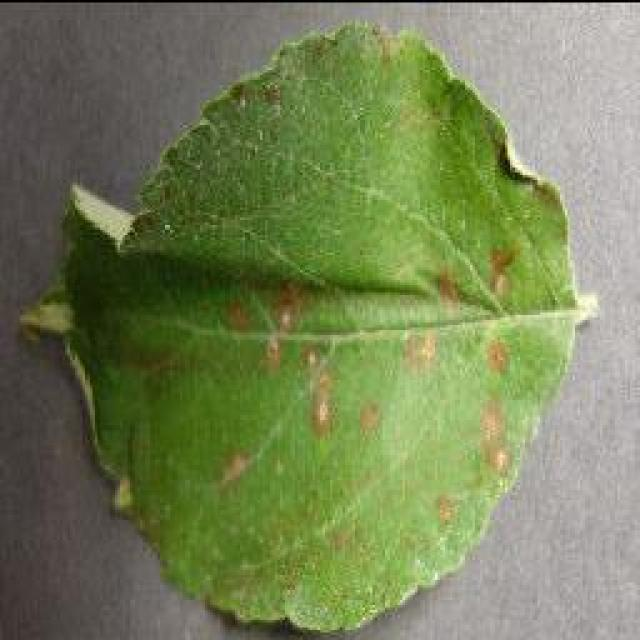apple healthy: (18, 17, 598, 635)
